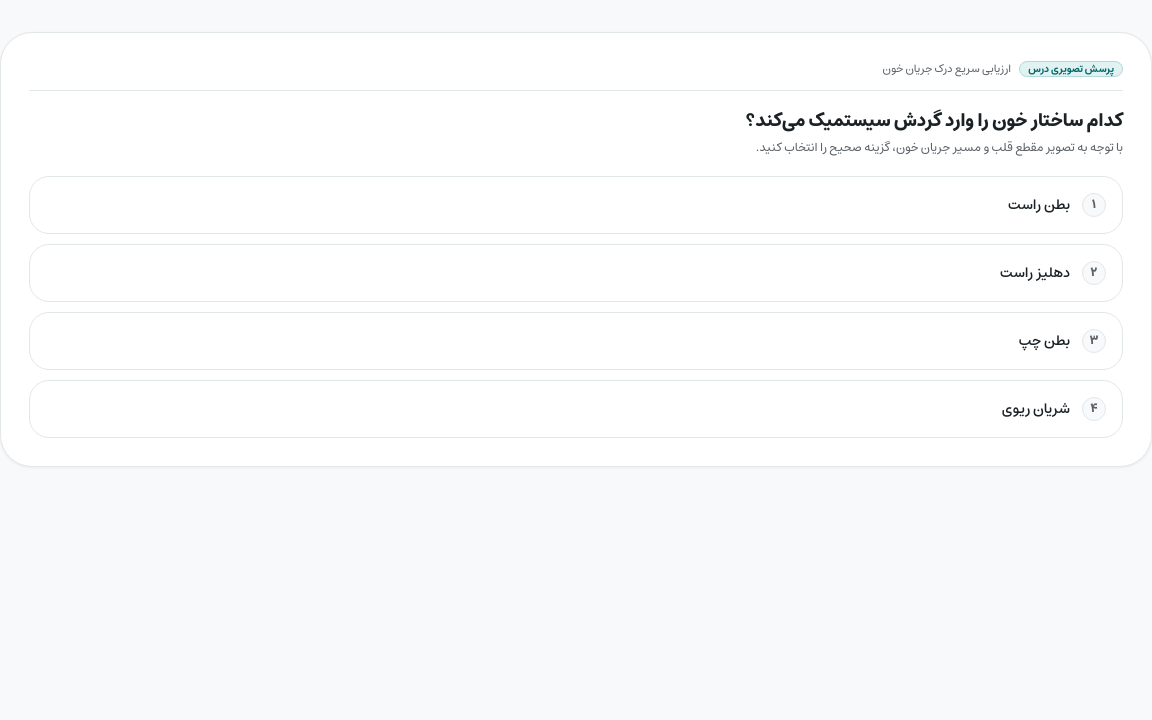
Scenario: Anatomy & Visual Content POC Test Suite › 3. AnatomyQuizCard Component › marks incorrect answer and reveals explanation with reset option
Click the button "۱ بطن راست". click: (1039,205)
box: [29,176,1123,234]
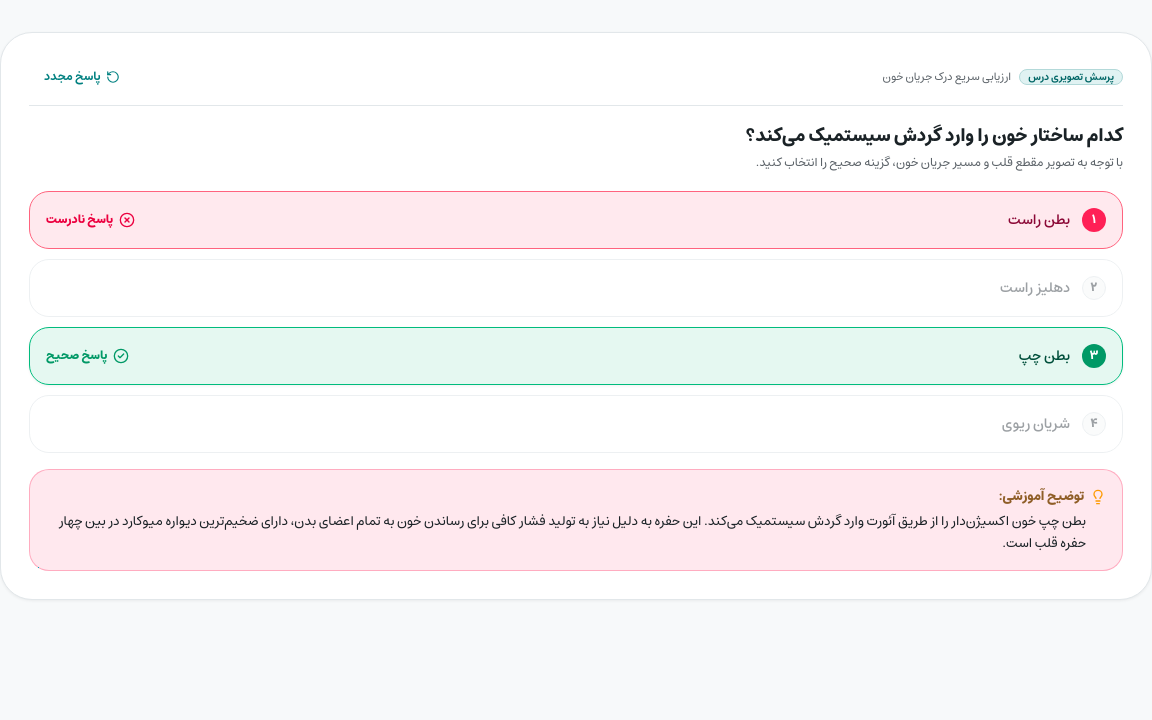
Now the text "پاسخ نادرست" is shown, box [46,212,113,228]
Now the text "بطن چپ خون اکسیژن‌دار را از طریق آئورت وارد گردش سیستمیک می‌کند" is shown, box [59,510,1086,554]
Try re-taking
Click the button "پاسخ مجدد". click: (82,77)
box: [29,61,136,93]
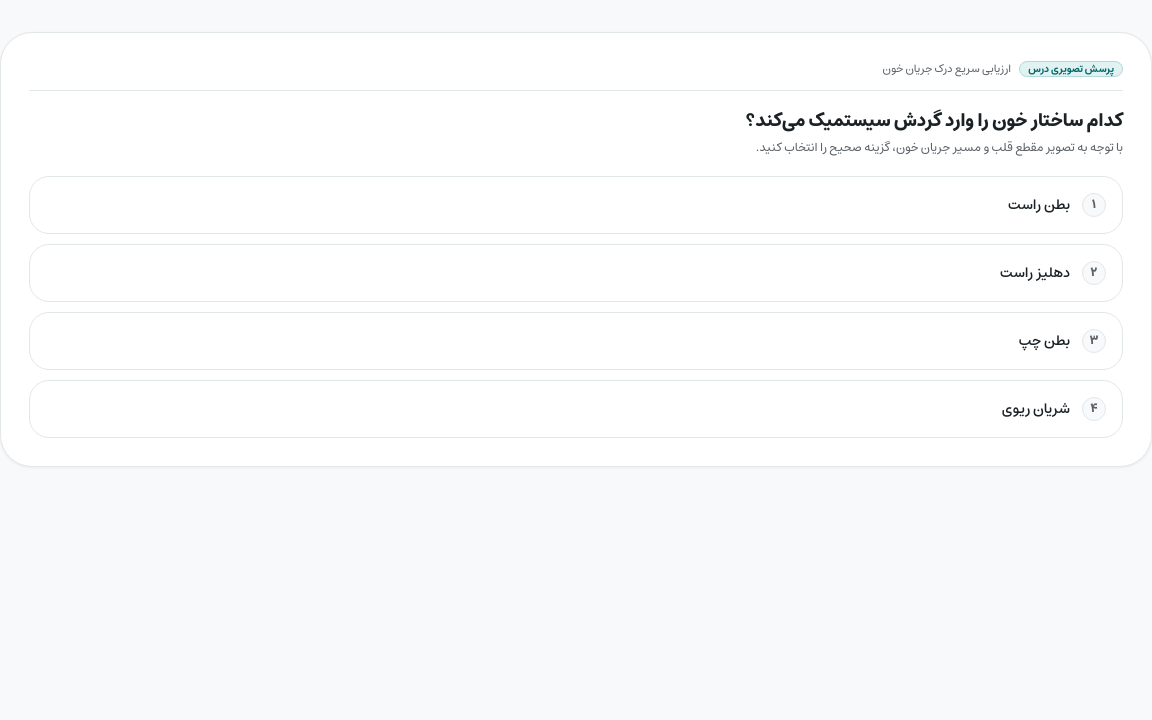
Now the text "پاسخ نادرست" is gone
